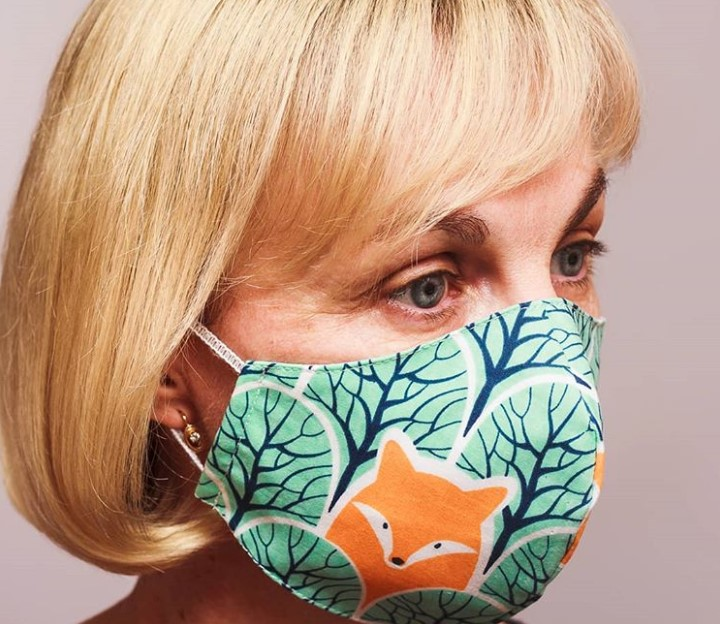face_with_mask: (111, 5, 628, 622)
